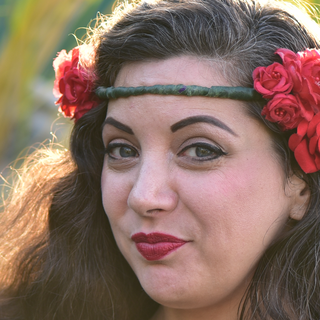eye: (168, 135, 230, 168), (99, 135, 142, 165)
